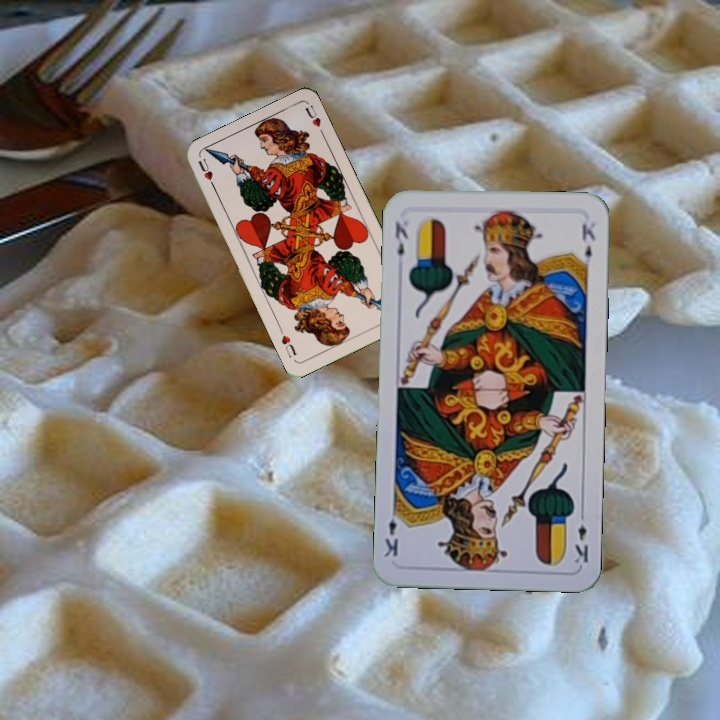EK: (569, 507, 591, 566), (391, 218, 411, 259)
HU: (194, 154, 218, 192)
